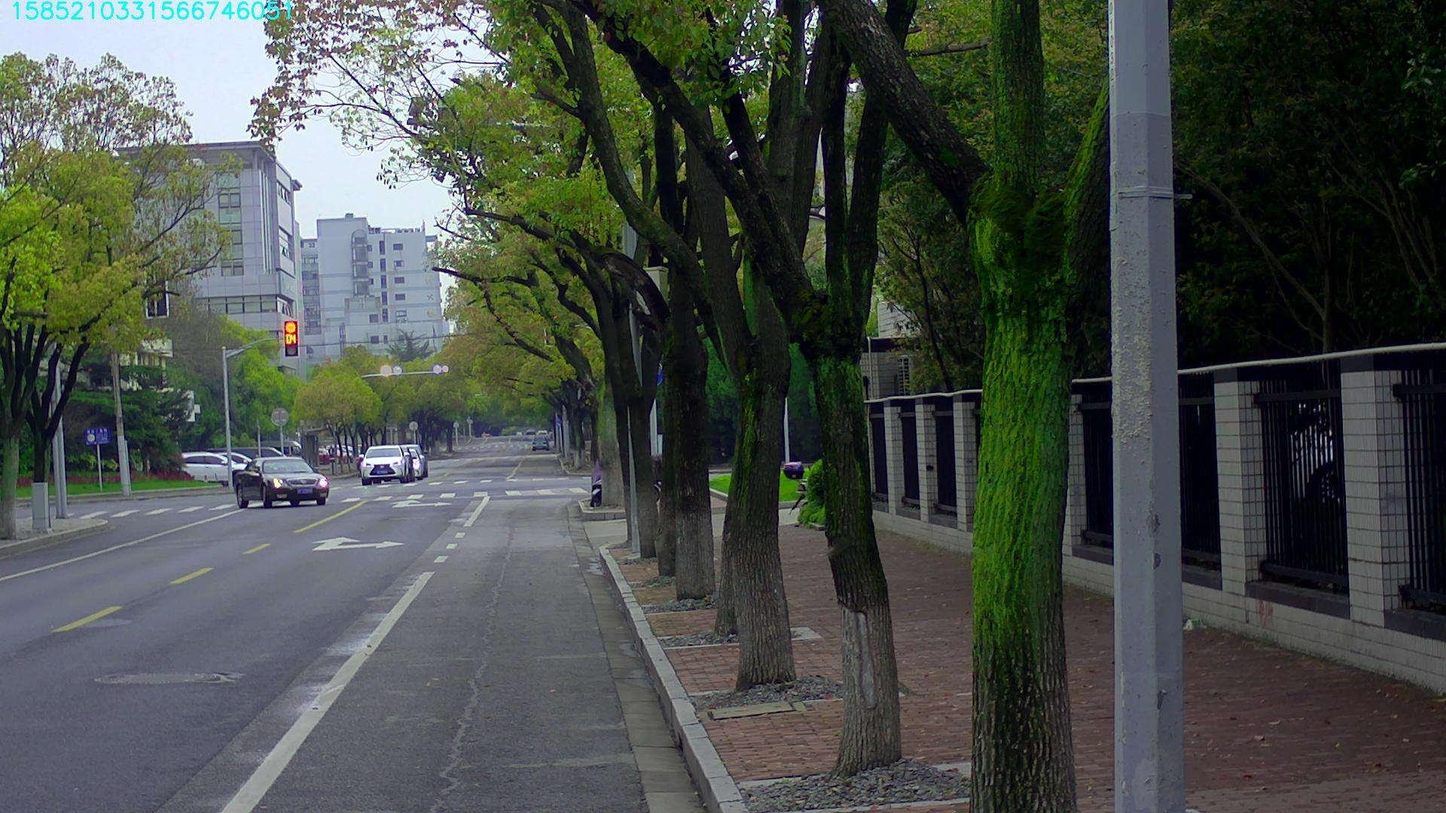red: (284, 321, 297, 355)
